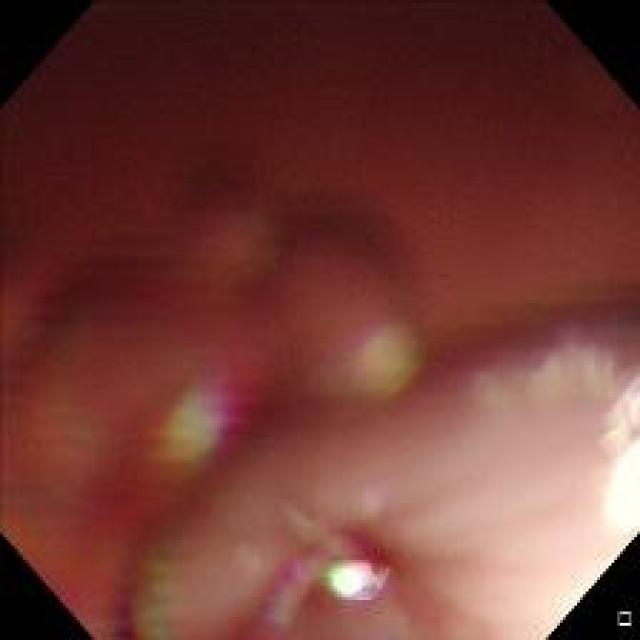blur: (14, 134, 592, 572)
color misalignment: (251, 504, 401, 629), (458, 314, 616, 415), (301, 310, 429, 409), (144, 362, 261, 461), (114, 525, 199, 632), (615, 368, 638, 420)
saturation: (491, 499, 639, 631)
specularity: (604, 429, 638, 538), (330, 565, 366, 596)
